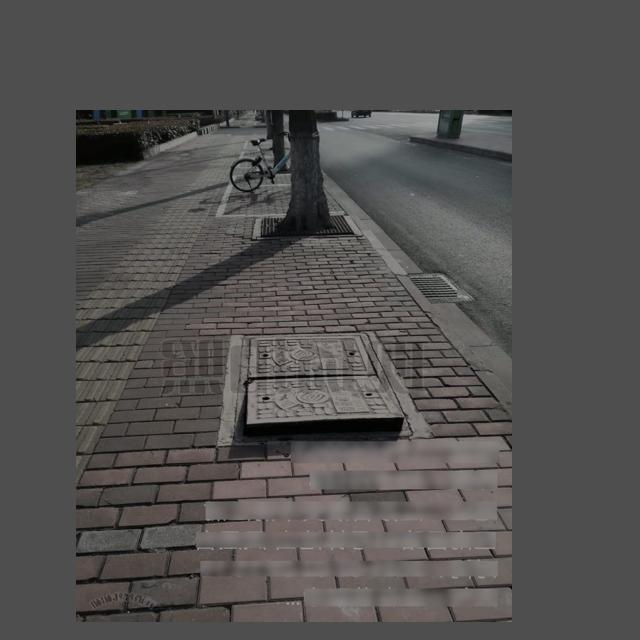uncovered: (231, 334, 412, 446)
